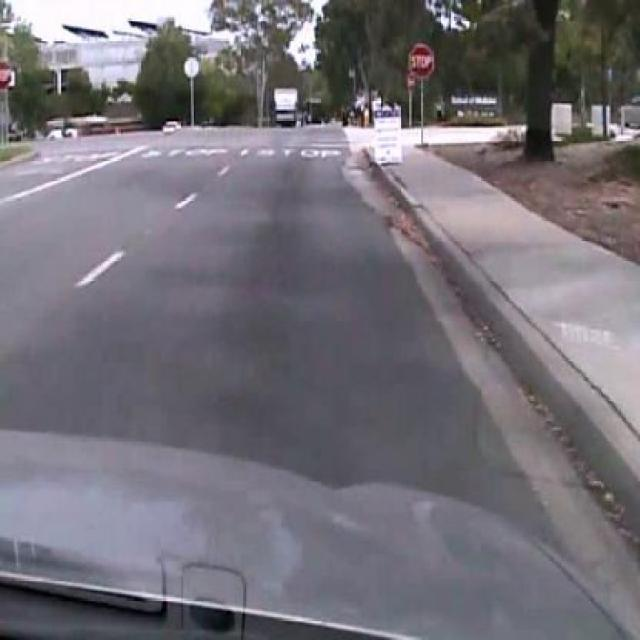Stop: (407, 42, 436, 80)
